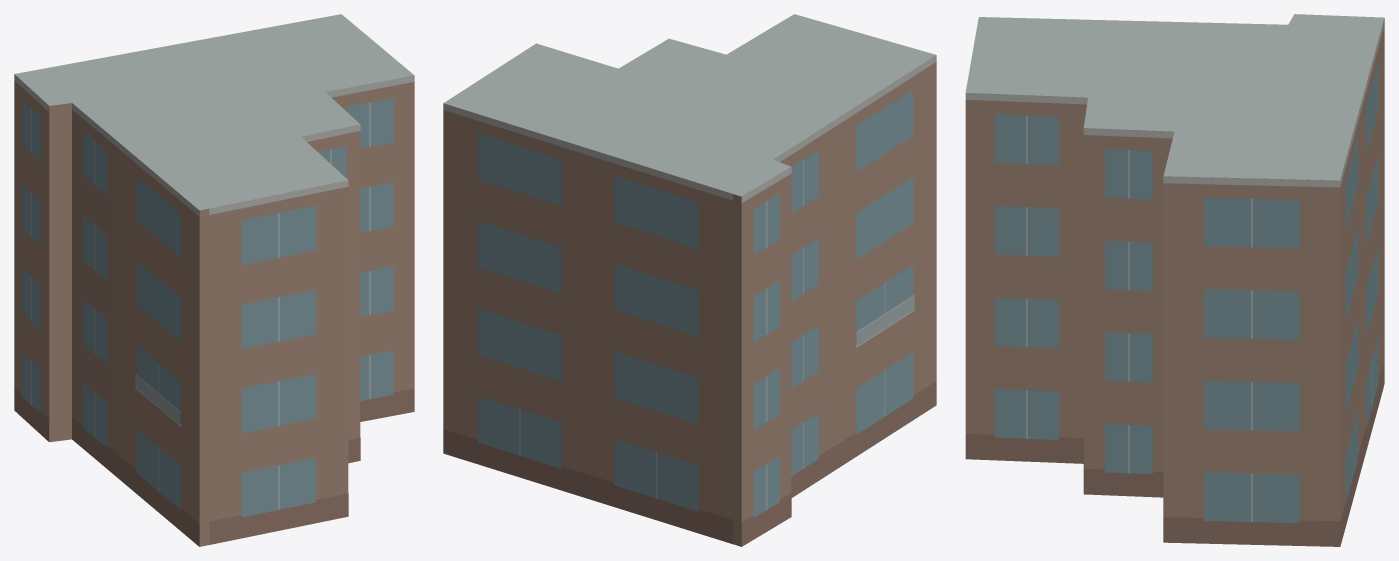
The model's file is survey-upis-32618403.glb.
3 renders of one model, left to right at view 1: azimuth 30°, elevation 25°; view 2: azimuth 150°, elevation 25°; view 3: azimuth 270°, elevation 25°, orthographic. The views are drawn at different scales.
Visible parts, largest first — view 1: survey-upis-32618403.tmp; view 2: survey-upis-32618403.tmp; view 3: survey-upis-32618403.tmp.
Part boxes in pixels (bbox=[...]): survey-upis-32618403.tmp: bbox=[14, 14, 414, 546]; survey-upis-32618403.tmp: bbox=[443, 14, 936, 546]; survey-upis-32618403.tmp: bbox=[965, 14, 1384, 546].
Size of the model in its own units: 12.49 by 12.8 by 13.28.
